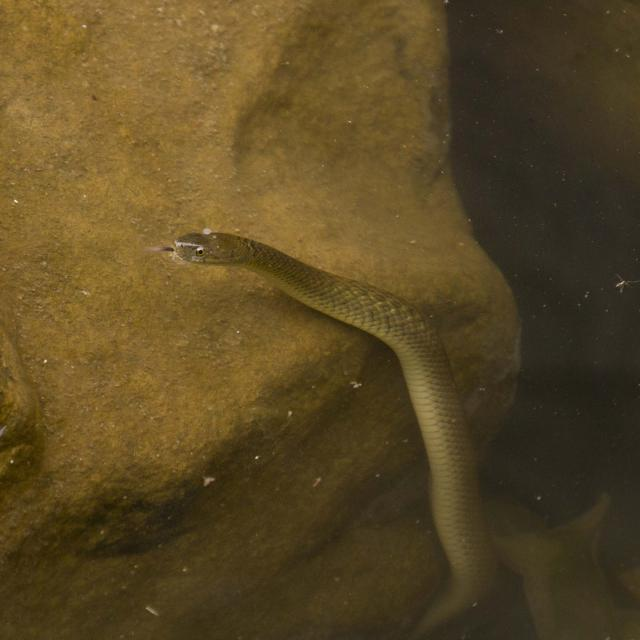Snake: (153, 227, 499, 638)
